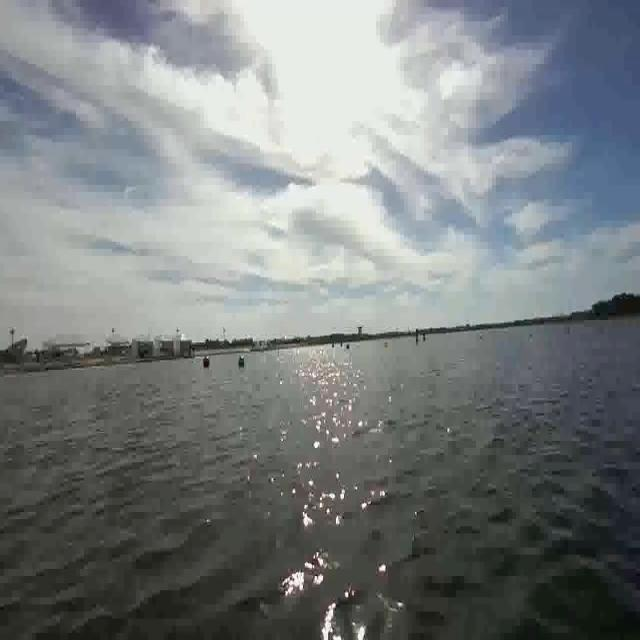black-buoy: (201, 350, 211, 368), (238, 354, 245, 367)
